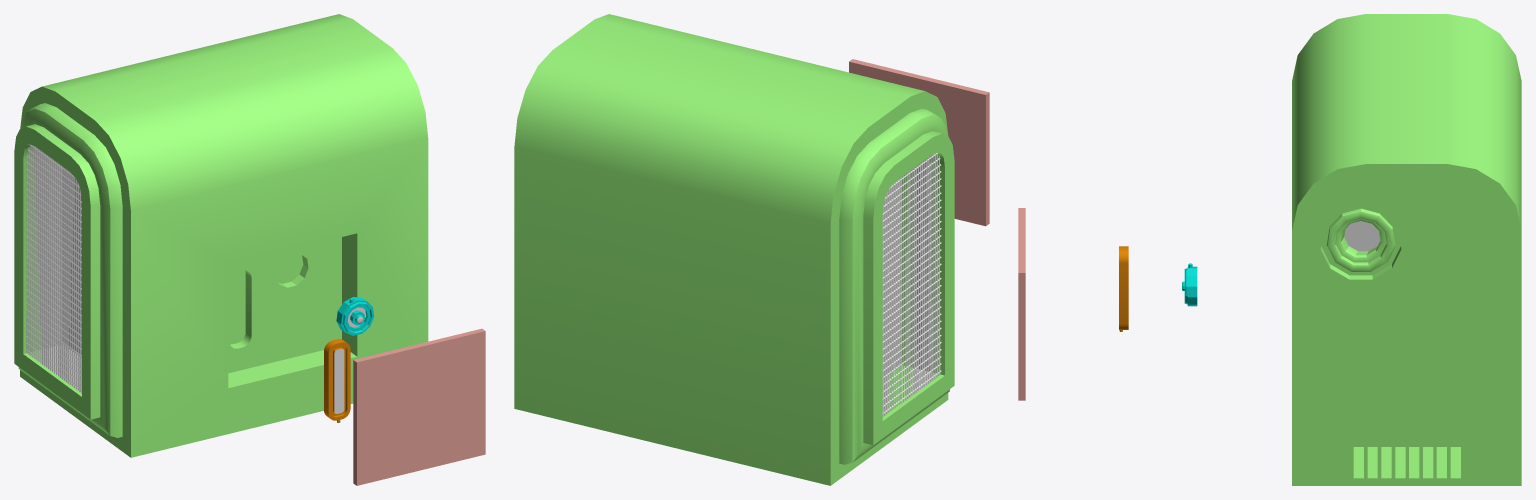
The model's file is BLEU_SCREEN_GENERATOR_uv_final.fbx.
The picture shows the model from 3 angles, left to right: view 1: azimuth 30°, elevation 25°; view 2: azimuth 150°, elevation 25°; view 3: azimuth 270°, elevation 25°; orthographic projection. The views are drawn at different scales.
Parts seen in each view (by area): view 1: Cube, Cube.001, Cube.002, Cube.003; view 2: Cube, Cube.001; view 3: Cube, Cube.001, Cube.002, Cube.003.
Part boxes in pixels (bbox=[...]): Cube: bbox=[14, 14, 428, 457]; Cube.001: bbox=[353, 328, 485, 485]; Cube.002: bbox=[324, 339, 350, 422]; Cube.003: bbox=[336, 297, 374, 335]; Cube: bbox=[514, 14, 954, 485]; Cube.001: bbox=[849, 59, 989, 226]; Cube: bbox=[1292, 14, 1521, 485]; Cube.001: bbox=[1018, 208, 1025, 400]; Cube.002: bbox=[1119, 246, 1128, 331]; Cube.003: bbox=[1182, 263, 1197, 306].
Bounding box in the file's own units: 108 × 100 × 142.
